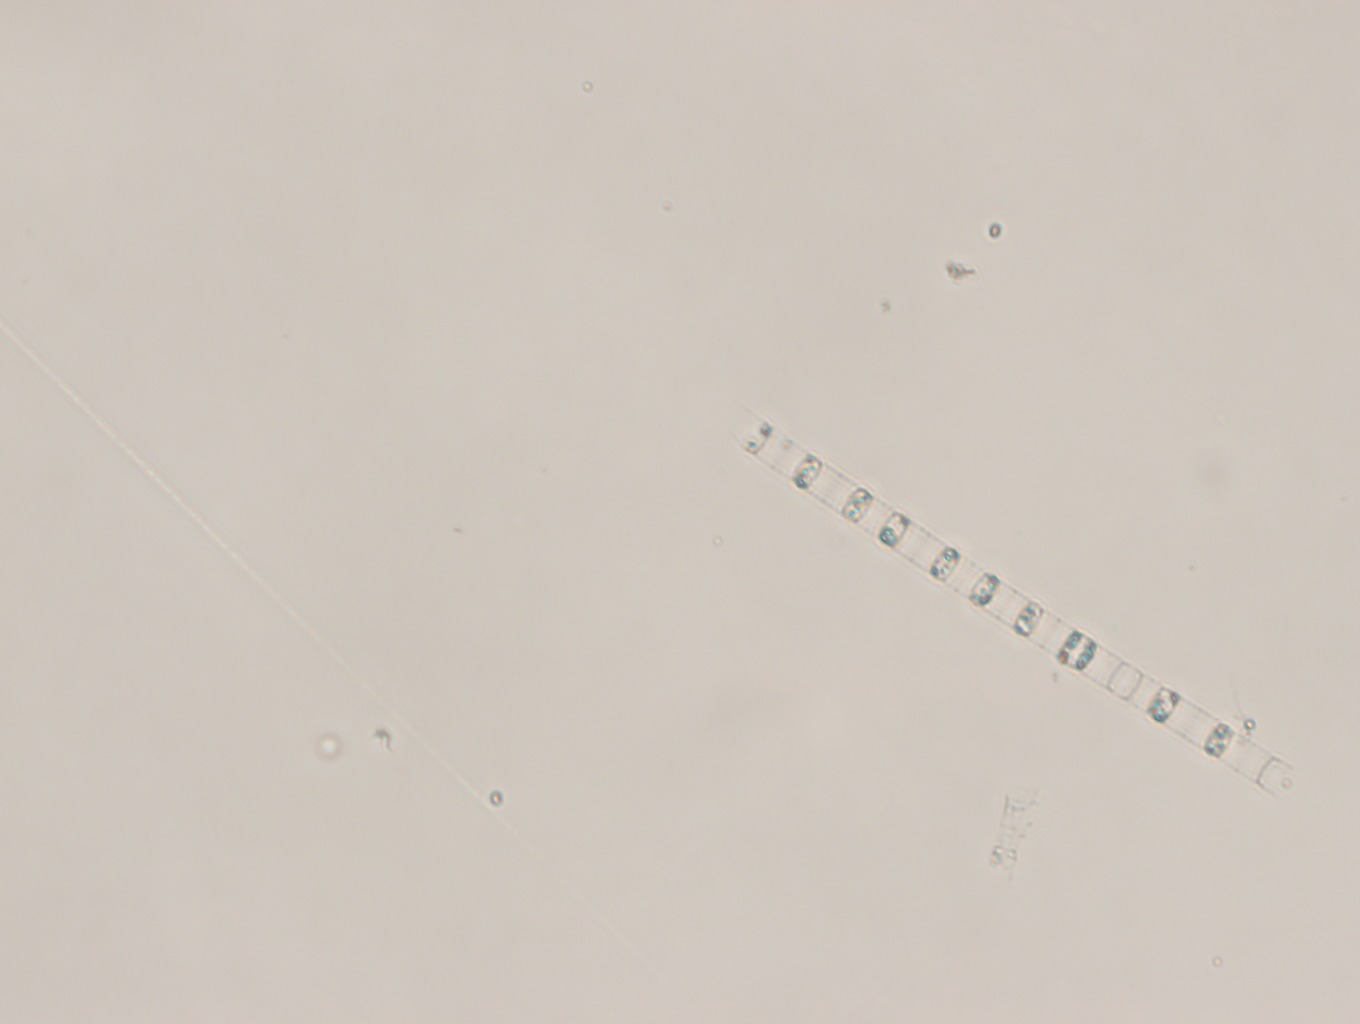skeletonema: (730, 415, 1295, 816)
